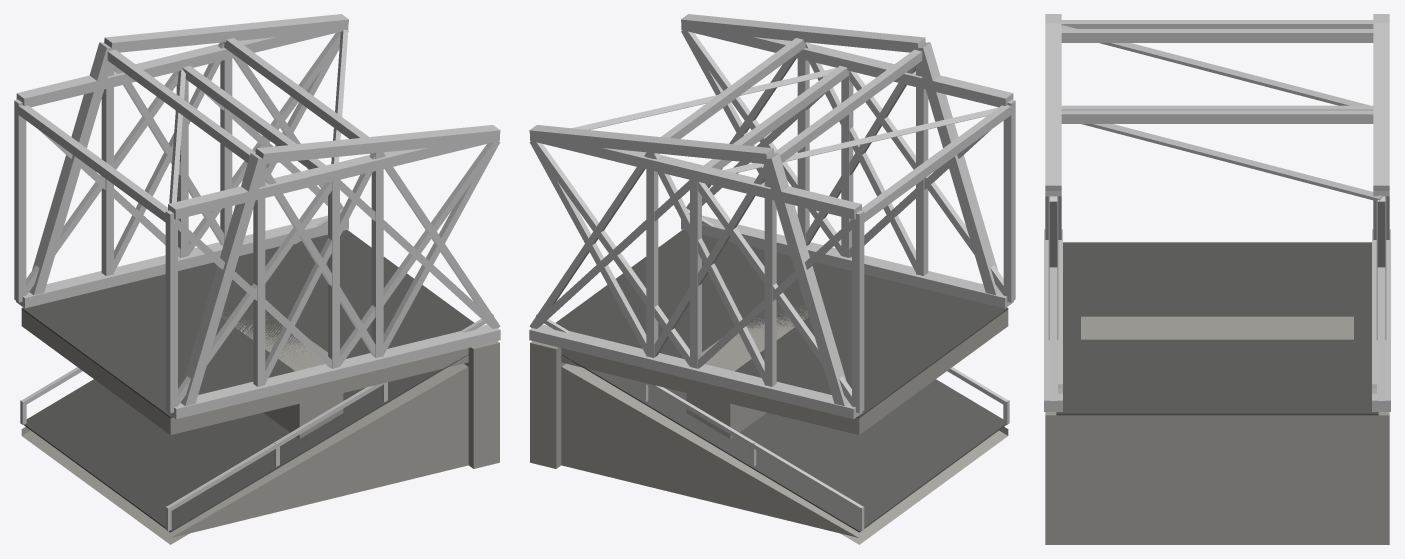
The model's file is most_konzolovy.glb.
The picture shows the model from 3 angles, left to right: view 1: azimuth 30°, elevation 25°; view 2: azimuth 150°, elevation 25°; view 3: azimuth 270°, elevation 25°; orthographic projection. The views are drawn at different scales.
Parts seen in each view (by area): view 1: stred, hlava, konec, pilir; view 2: stred, hlava, konec, pilir; view 3: stred, hlava, konec, pilir.
Boxes of the visible parts, x1,y1,x2,y2 form: stred: (14,20,500,434); hlava: (20,209,499,544); konec: (29,14,500,406); pilir: (221,312,343,438); stred: (529,19,1015,434); hlava: (530,209,1009,544); konec: (529,14,1000,406); pilir: (686,306,808,438); stred: (1044,14,1390,433); hlava: (1045,384,1389,544); konec: (1045,23,1389,401); pilir: (1081,316,1353,339).
Bounding box in the file's own units: 15.14 × 16.32 × 12.7.
1 material, 1 textured.
